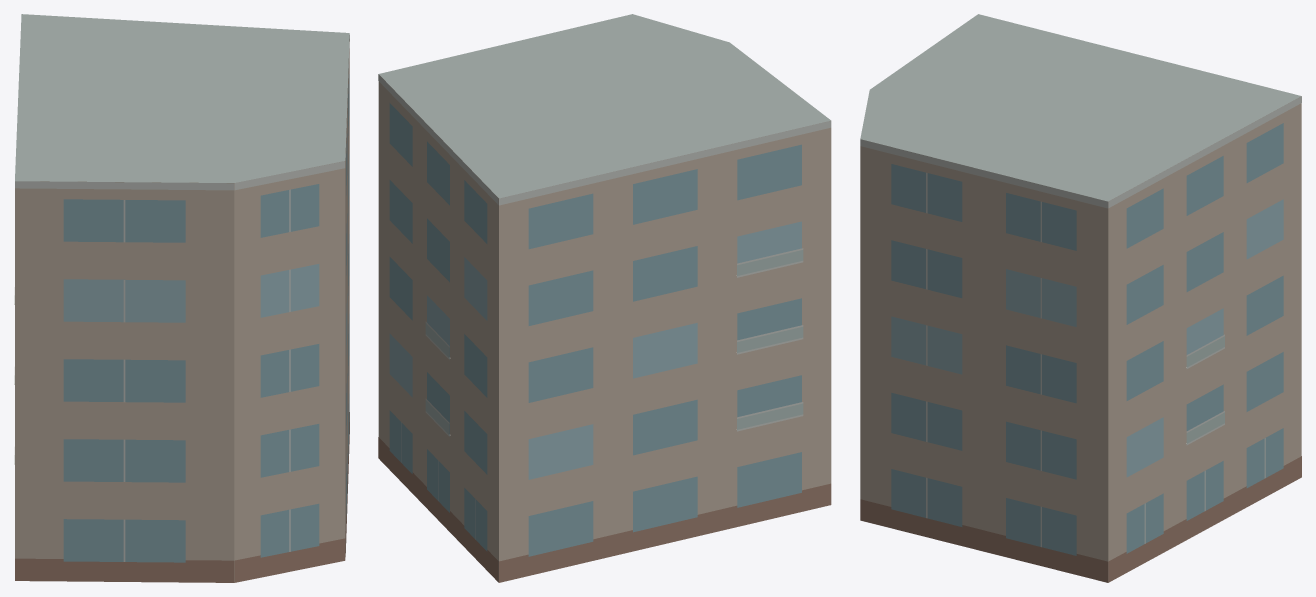
Rendered from survey-upis-32490694.glb.
3 renders of one model, left to right at view 1: azimuth 30°, elevation 25°; view 2: azimuth 150°, elevation 25°; view 3: azimuth 270°, elevation 25°, orthographic. The views are drawn at different scales.
Parts seen in each view (by area): view 1: survey-upis-32490694.tmp; view 2: survey-upis-32490694.tmp; view 3: survey-upis-32490694.tmp.
Part boxes in pixels (box(x1,y1,x2,y2)): survey-upis-32490694.tmp: box(14, 14, 349, 582); survey-upis-32490694.tmp: box(378, 14, 831, 582); survey-upis-32490694.tmp: box(860, 14, 1301, 582).
Size of the model in its own units: 14.09 by 13.35 by 14.02.
